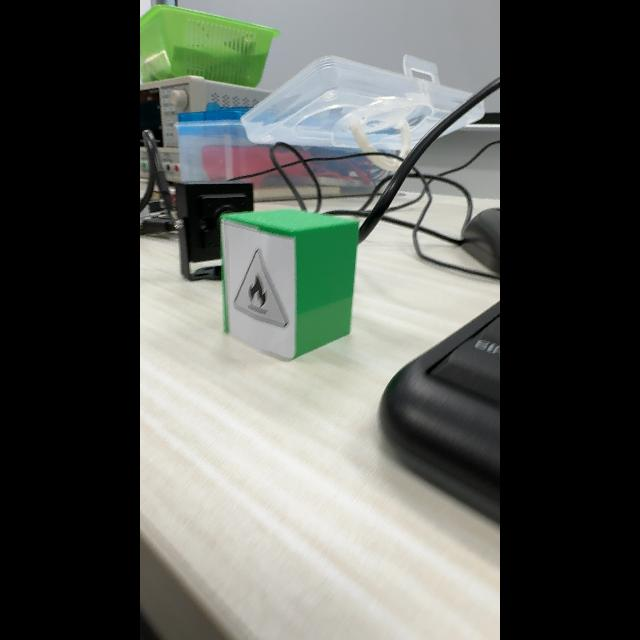Fire: (234, 249, 288, 327)
